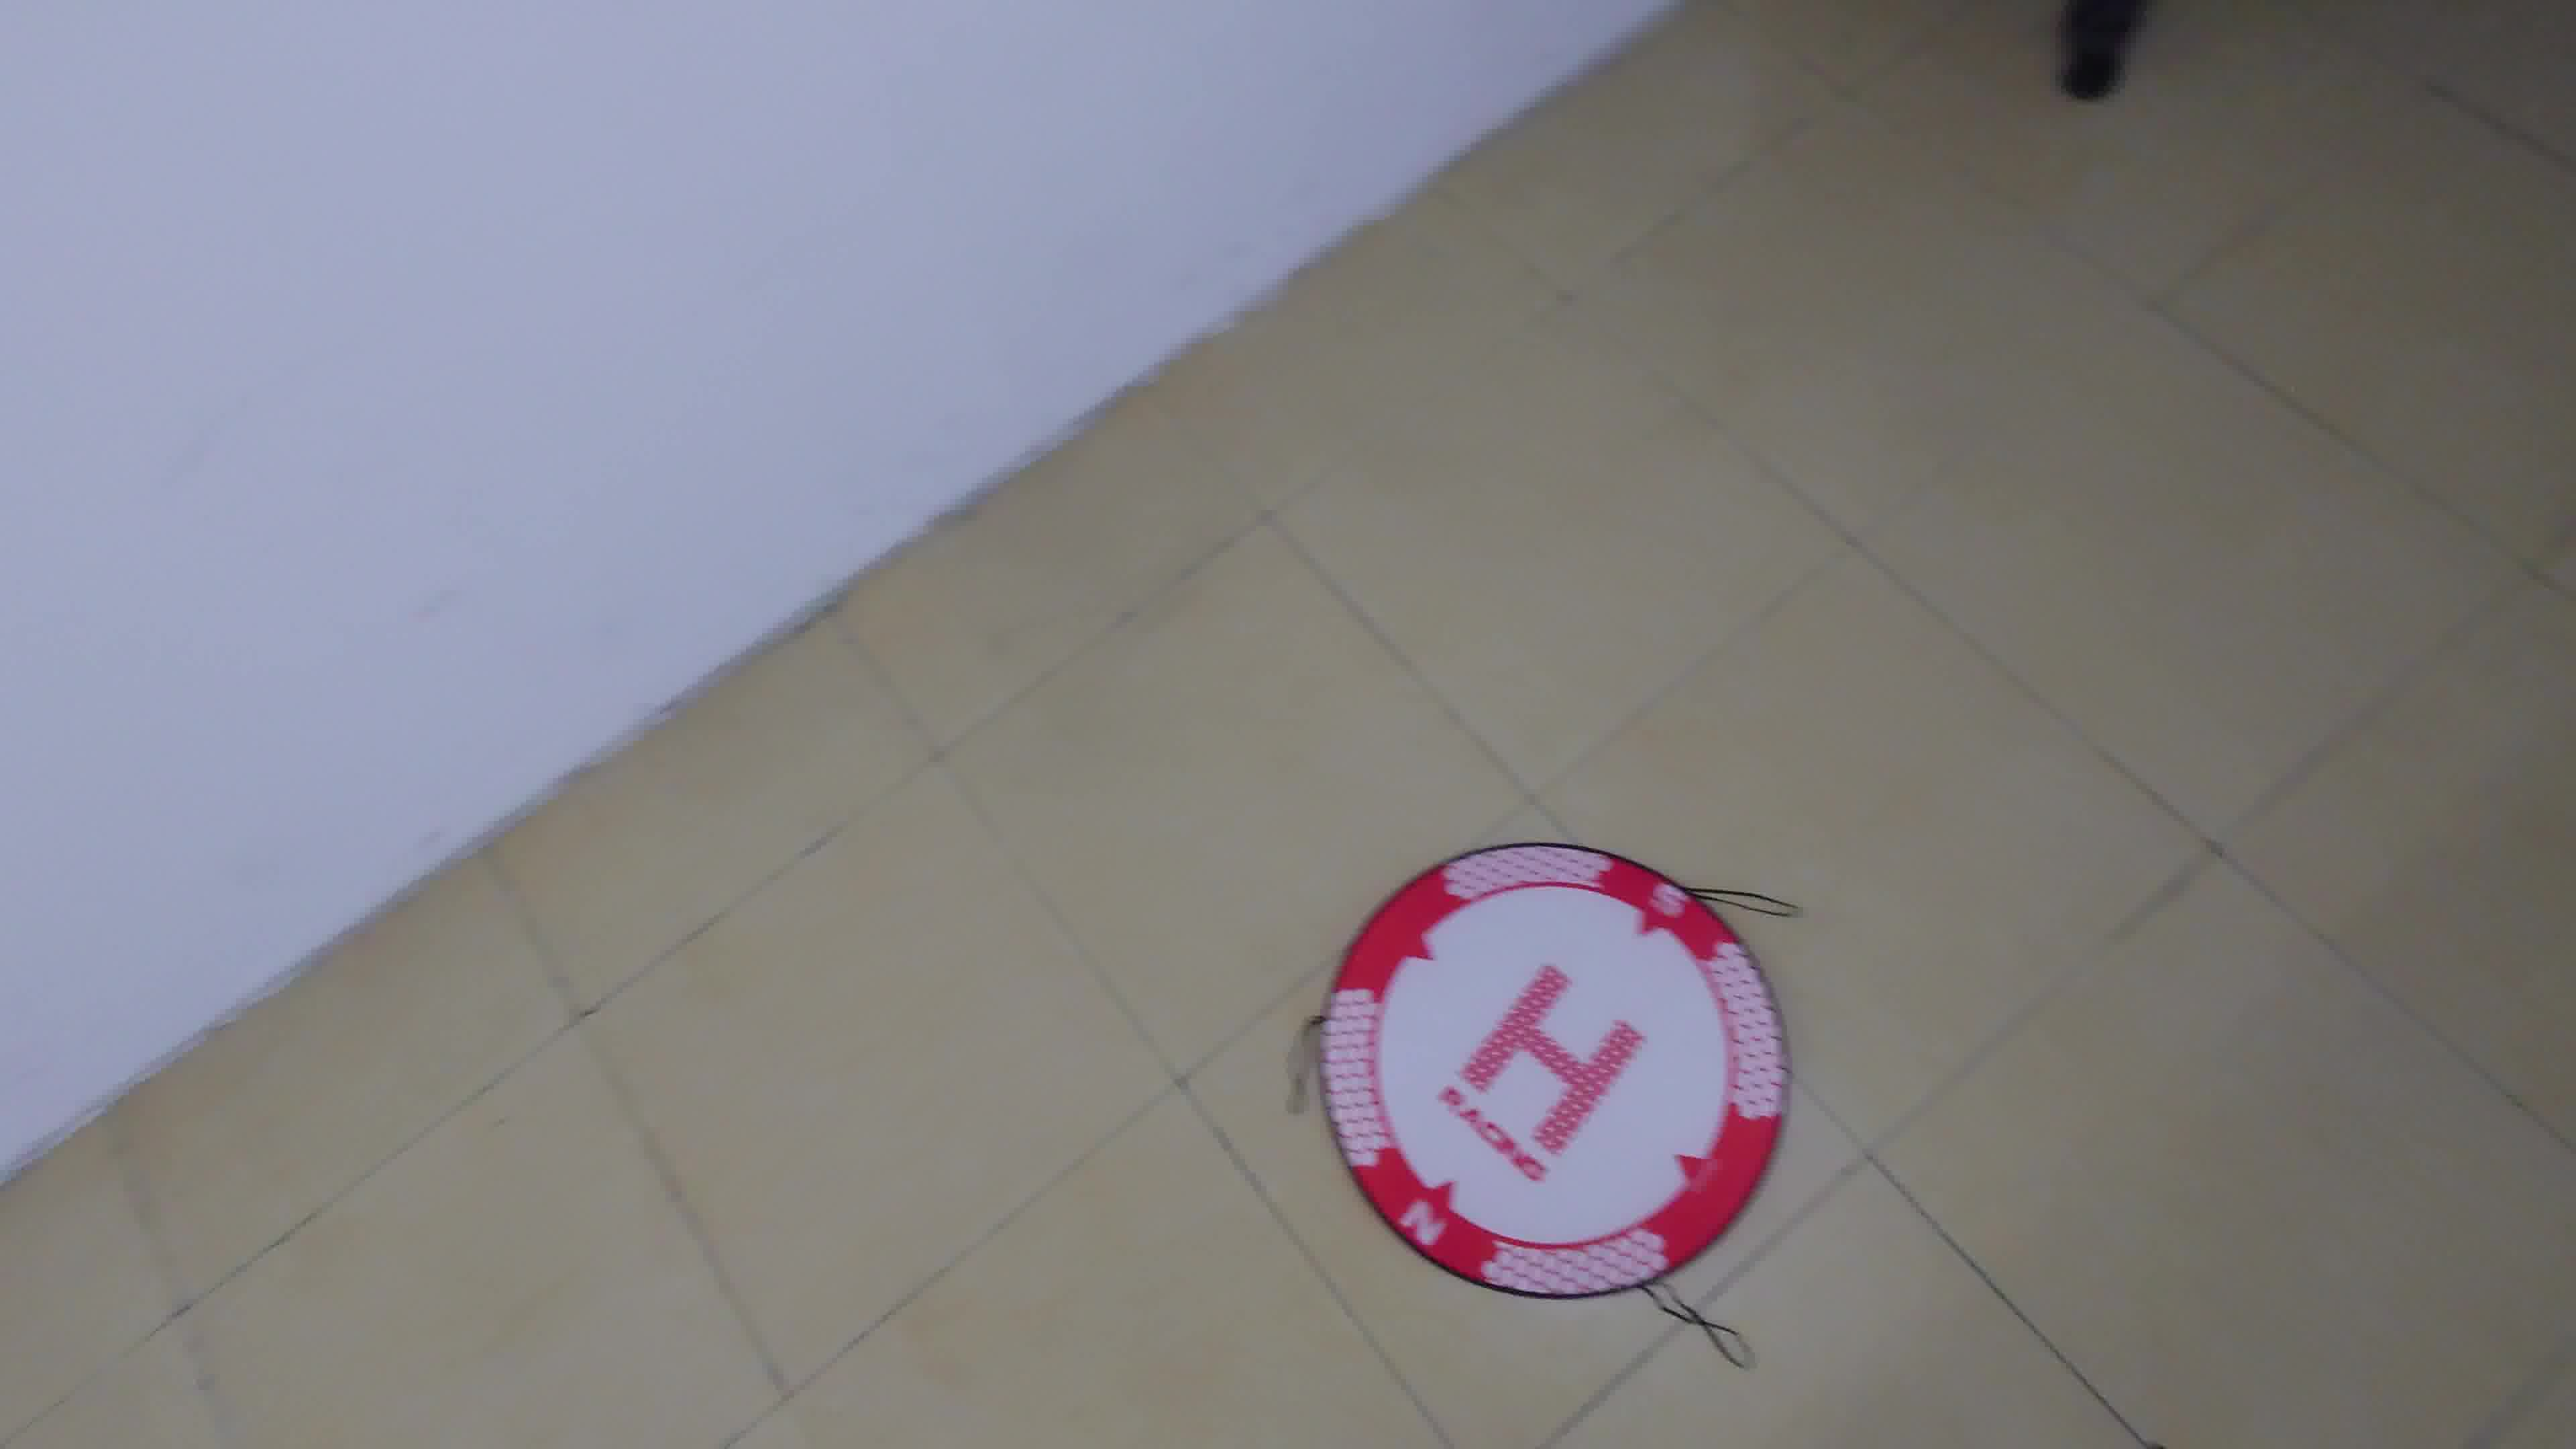H: (1458, 964, 1647, 1155)
